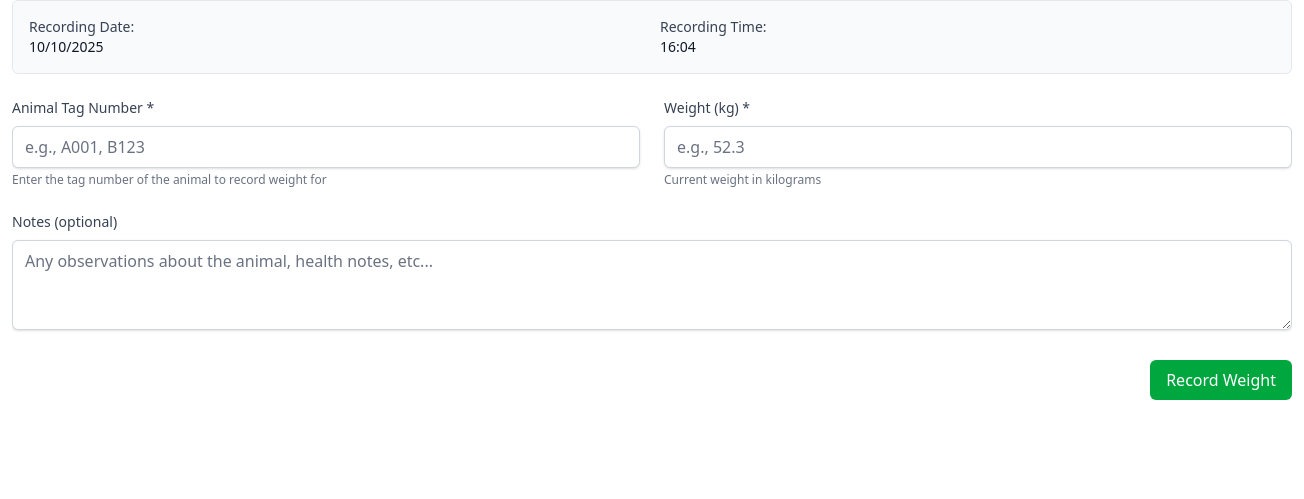
it: WeightRecordingForm › should show success message on successful submission
In the field labelled "Animal Tag Number *": (326, 147) [12,126,640,168], type "A001"
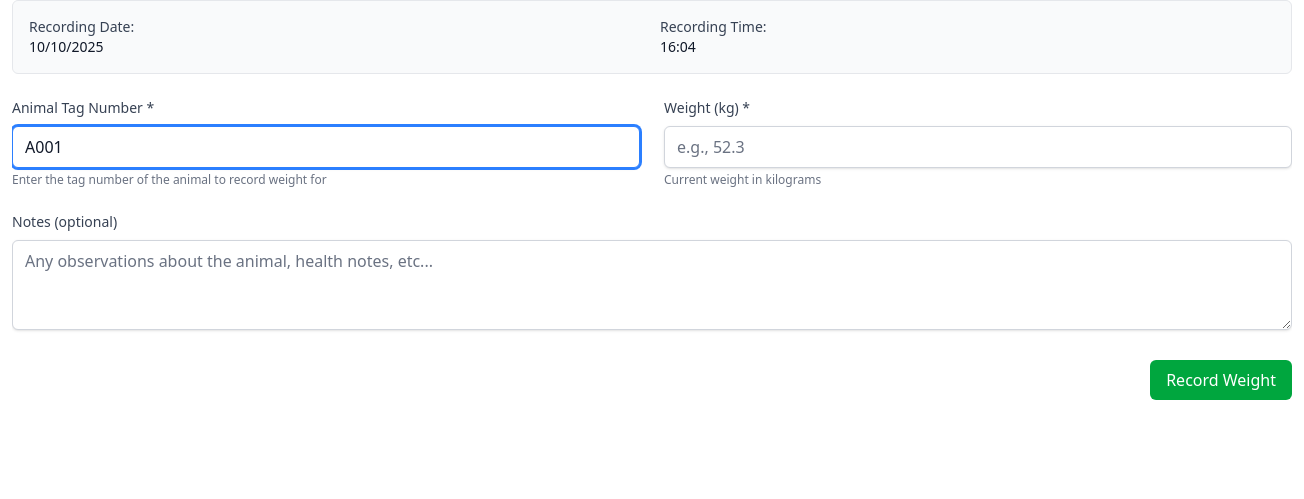
In the number field labelled "Weight (kg) *": (978, 147) [664,126,1292,168], type "52.3"
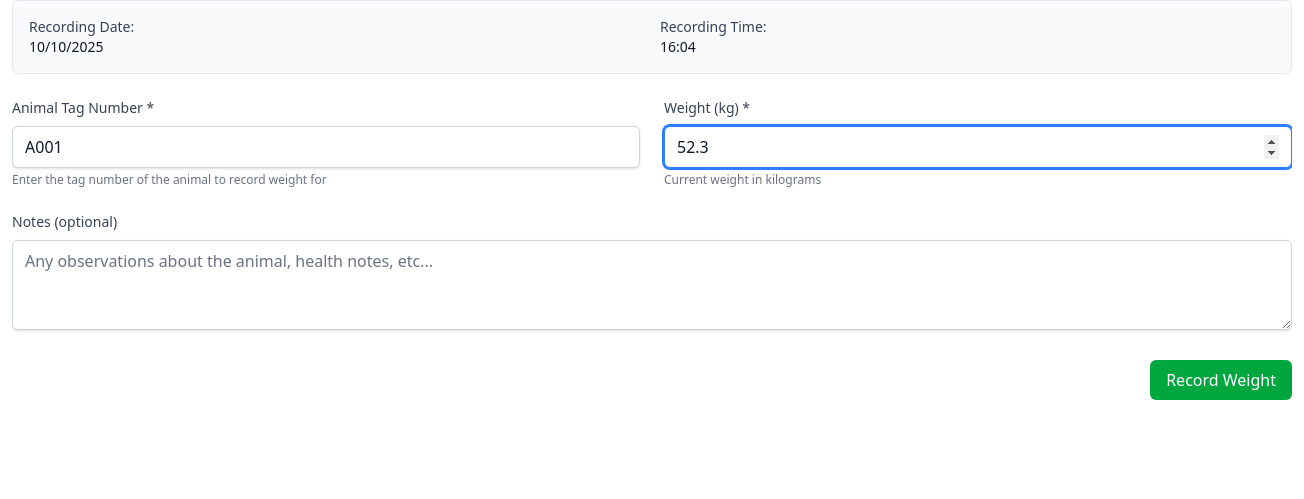
Click the button "Record Weight": (1221, 380) [1150,360,1292,400]
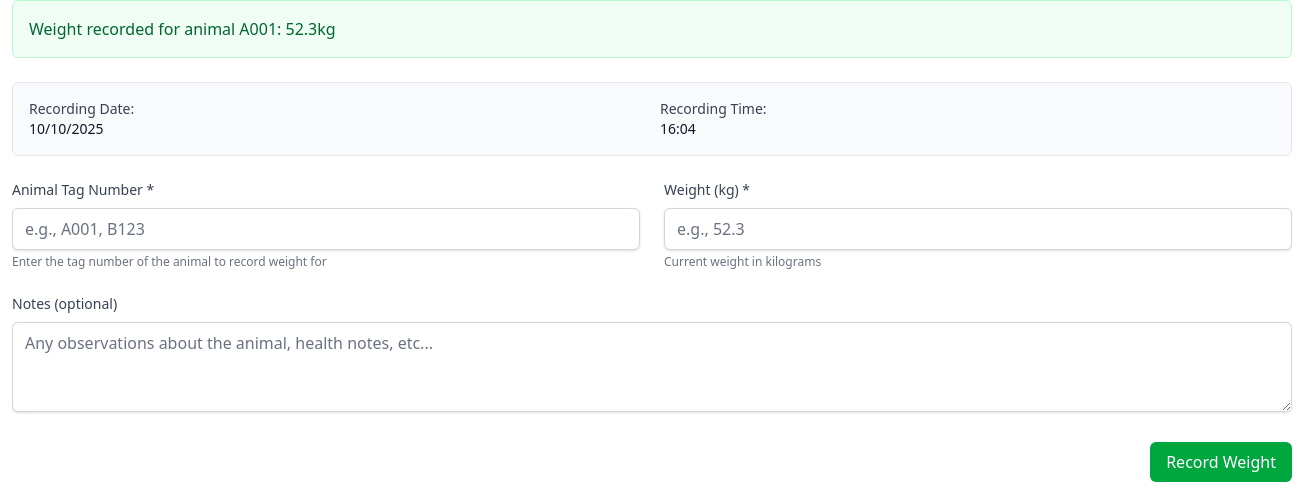
Expected: the text "Weight recorded for animal A001: 52.3kg" is shown, [12,0,1292,58]
